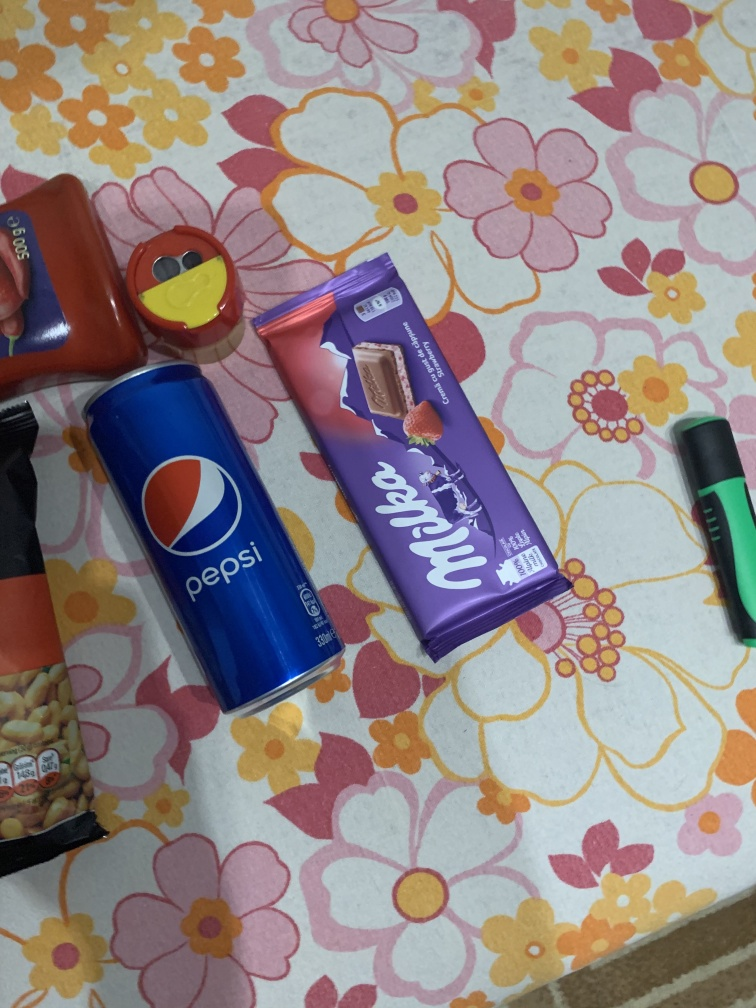ketchup: (4, 173, 154, 397)
milka: (246, 249, 579, 680)
peanuts: (3, 401, 111, 889)
pepsi: (79, 357, 349, 724)
